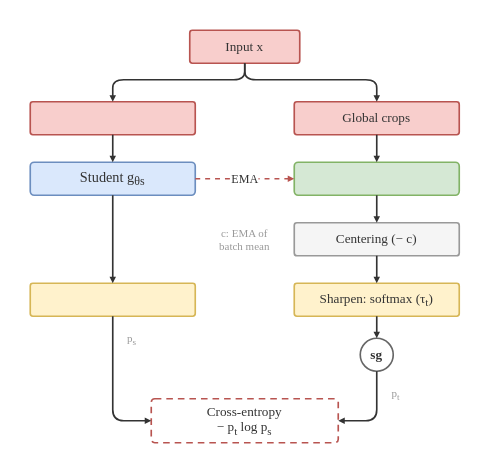
This 488x472 diagram has some shape labels left out. The centre of each missing label's shape, as x and y in pixels:
"Global + local crops" belongs at point (112, 117).
"Softmax (τ s )" belongs at point (112, 299).
"Teacher g θt" belongs at point (376, 178).
